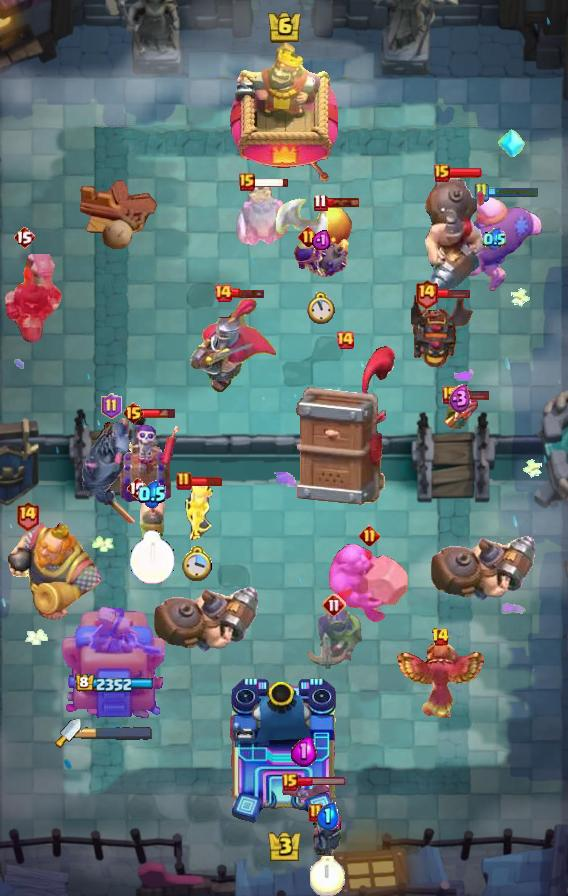archer-evolution: (411, 290, 477, 370)
archer-queen: (326, 541, 412, 625)
balloon: (443, 195, 545, 295)
bar: (60, 607, 168, 731)
barbarian-barrel: (277, 780, 331, 804)
barbarian-hut: (298, 606, 370, 672)
battle-ram: (312, 813, 345, 860)
cannon: (183, 478, 213, 542), (442, 392, 478, 440)
dart-goblin: (295, 345, 395, 507)
electro-spirit: (291, 735, 317, 767), (138, 480, 166, 508), (449, 384, 471, 414), (317, 802, 340, 830), (482, 228, 505, 252), (312, 229, 330, 251)
elixir: (129, 531, 176, 586), (311, 856, 346, 896), (182, 543, 214, 581), (307, 292, 335, 324)
emote: (488, 186, 541, 198), (296, 777, 347, 788), (253, 176, 290, 188), (447, 167, 483, 179), (230, 287, 266, 299), (142, 407, 178, 419), (437, 288, 472, 300), (455, 389, 489, 401), (325, 196, 360, 207), (189, 476, 223, 487)
executioner: (137, 488, 167, 544)
giant-skeleton: (0, 520, 108, 624)
goblin-ball: (292, 237, 350, 281)
golden-knight: (392, 642, 488, 720)
golemite: (80, 422, 142, 526)
hog: (313, 206, 353, 250)
inferno-dragon: (0, 241, 62, 351)
king-tower: (228, 676, 340, 826), (230, 43, 338, 181)
king-tower-bar: (81, 726, 153, 740)
mortar-evolution: (234, 184, 290, 250)
pad_2: (498, 126, 526, 160)
royal-giant: (274, 188, 330, 250)
selected: (74, 674, 154, 694)
skeleton-king-bar: (111, 418, 179, 504)
text: (16, 501, 41, 532), (414, 279, 438, 309), (322, 593, 346, 617), (122, 401, 145, 425), (101, 393, 122, 419), (13, 225, 35, 249), (126, 476, 148, 500), (297, 225, 318, 247), (359, 525, 380, 546), (213, 283, 233, 303), (335, 330, 355, 350), (430, 627, 450, 647), (473, 182, 489, 202), (176, 471, 192, 491), (308, 803, 324, 823), (434, 164, 450, 182), (239, 173, 255, 191), (442, 386, 458, 404), (282, 773, 298, 791), (312, 192, 327, 211)
wall-breaker-evolution: (189, 295, 281, 395)
wizard: (427, 533, 539, 603), (150, 584, 262, 654), (421, 177, 485, 295)
